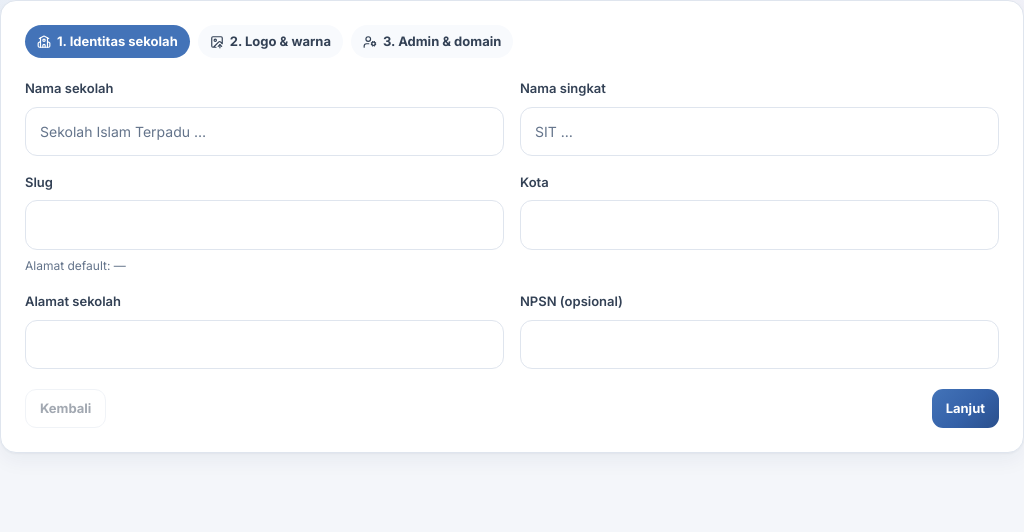
TenantWizard › blocks invalid slugs before submitting
Type "Sekolah" into the field labelled "Nama sekolah". click: (264, 131)
box: [25,107,504,156]
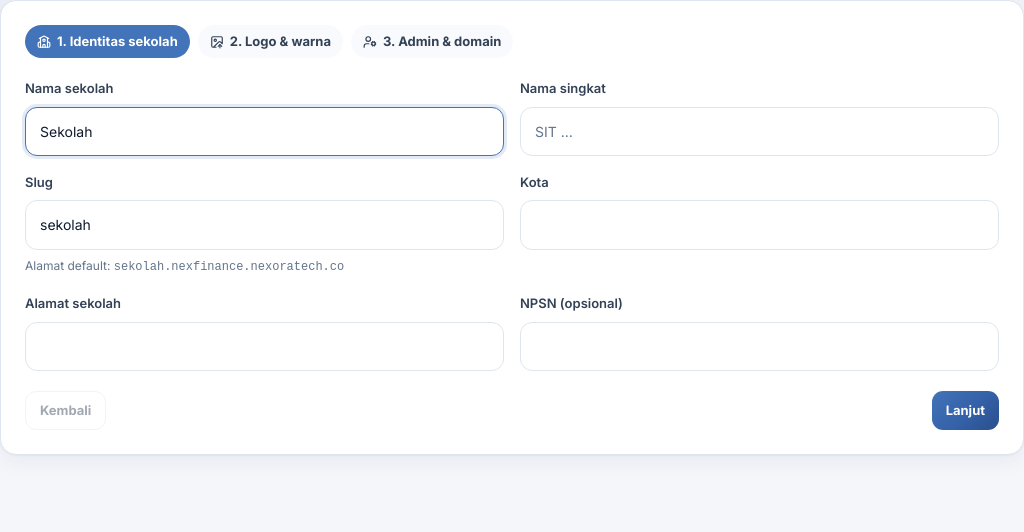
Replace the text in the field labelled "Slug" with "Bad Slug". click: (264, 225)
box: [25,200,504,250]
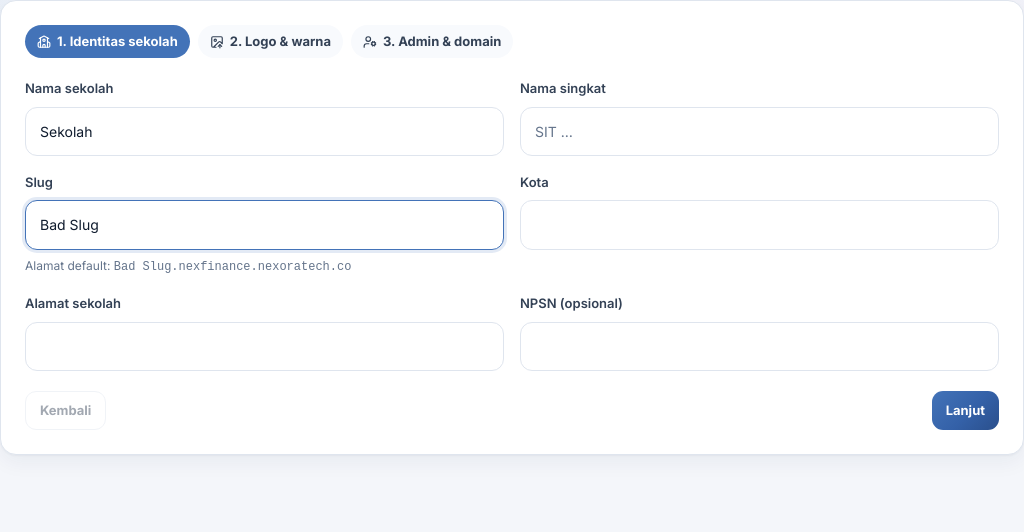
Click the button "Lanjut". click: (965, 410)
box: [932,391,999,430]
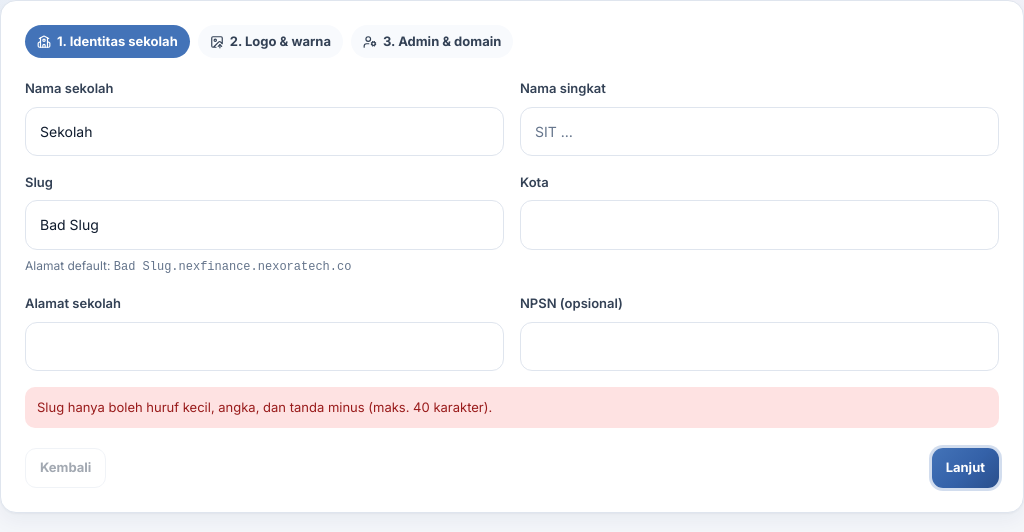
Expected: the message shows "Slug", [37,399,492,415]
